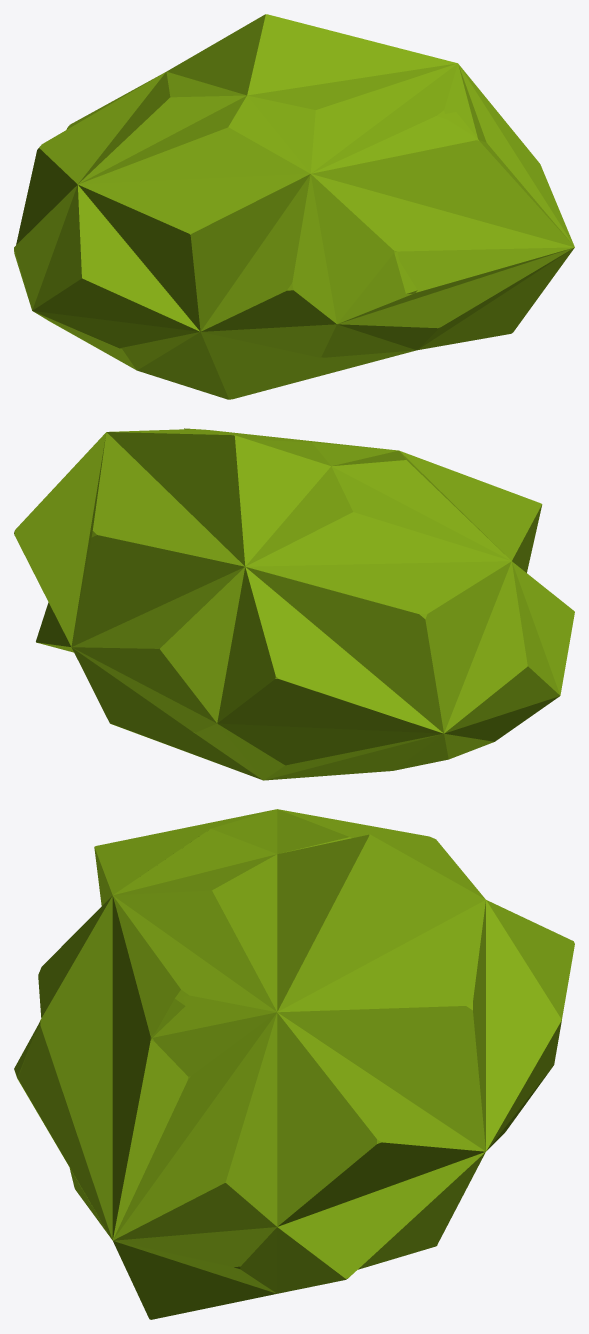
File: polybusch1.FBX
3 renders of one model, top to bottom at view 1: azimuth 30°, elevation 25°; view 2: azimuth 150°, elevation 25°; view 3: azimuth 270°, elevation 25°, orthographic. The views are drawn at different scales.
Parts seen in each view (by area): view 1: GeoSphere001; view 2: GeoSphere001; view 3: GeoSphere001.
Part boxes in pixels (x1,y1,x2,y2): GeoSphere001: [14, 14, 574, 399]; GeoSphere001: [14, 428, 574, 780]; GeoSphere001: [14, 809, 574, 1319].
Bounding box in the file's own units: 58.07 × 34.21 × 44.68.
Materials: 1 (1 with a texture image).
